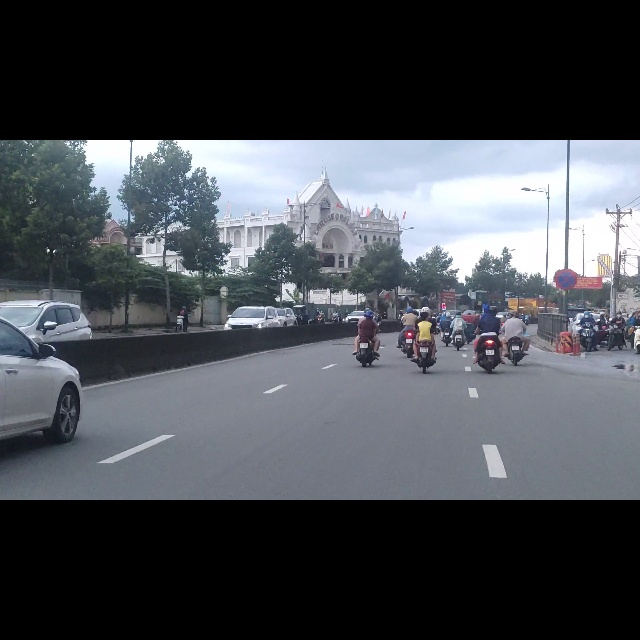bien_cam: (555, 230, 577, 265)
